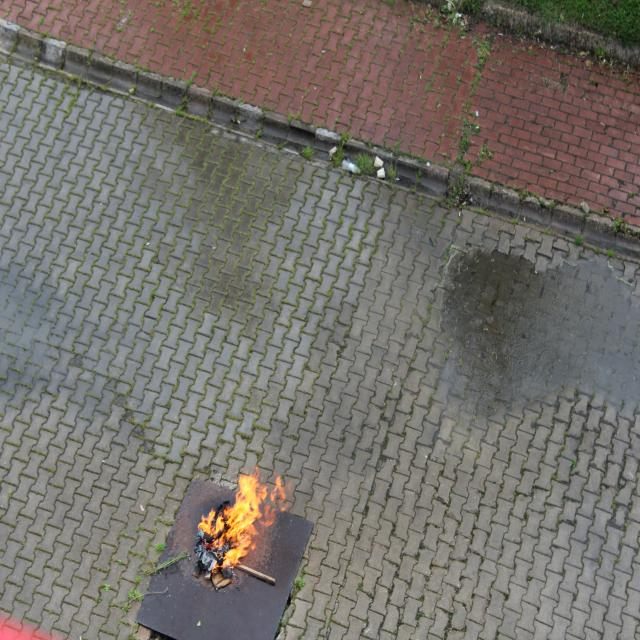fire: (166, 460, 302, 584)
